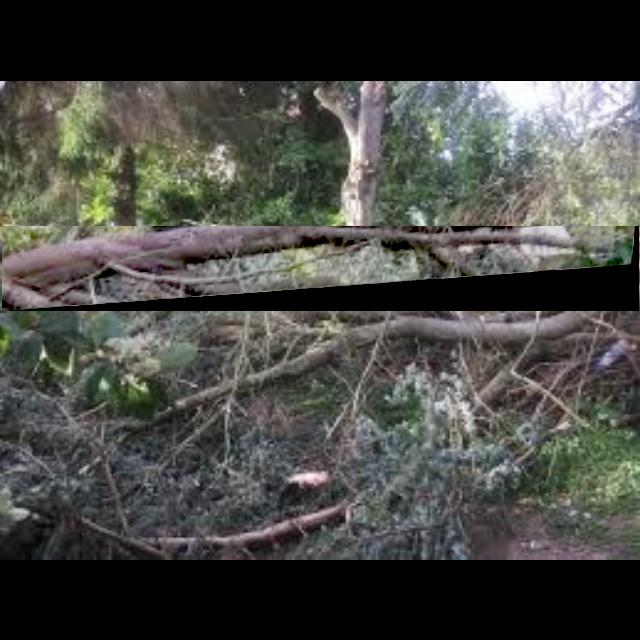Fallen Tree: (2, 226, 640, 312)
